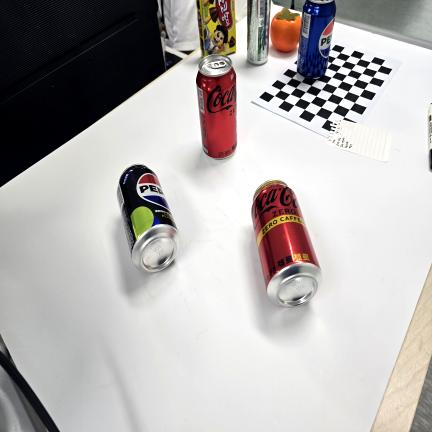can_coke_decaf: (251, 177, 324, 310)
can_coke_zero: (196, 52, 237, 163)
can_pepsi: (295, 0, 337, 85)
can_pepsi_zero: (116, 162, 179, 275)
